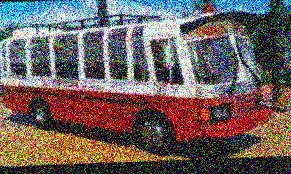bus: (0, 0, 284, 174)
